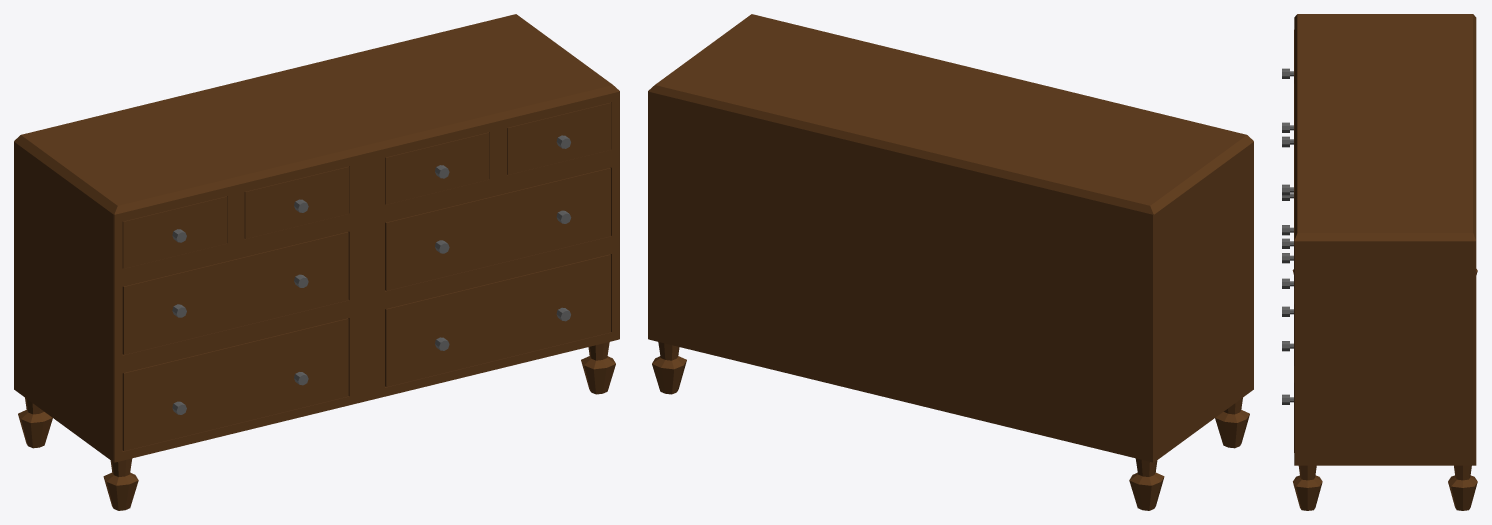
The model's file is WideDresser1.glb.
3 views of the same model, side by side, from view 1: azimuth 30°, elevation 25°; view 2: azimuth 150°, elevation 25°; view 3: azimuth 270°, elevation 25° (orthographic). The views are drawn at different scales.
Parts seen in each view (by area): view 1: WideDresser1, Drawer4_WideDresser1, Drawer8_WideDresser1, Drawer3_WideDresser1, Drawer7_WideDresser1, Drawer1_WideDresser1, Drawer2_WideDresser1, Drawer5_WideDresser1, Drawer6_WideDresser1; view 2: WideDresser1; view 3: WideDresser1, Drawer8_WideDresser1, Drawer7_WideDresser1.
Boxes of the visible parts, x1,y1,x2,y2 form: WideDresser1: (14,14,619,510); Drawer4_WideDresser1: (122,318,348,450); Drawer8_WideDresser1: (385,254,610,386); Drawer3_WideDresser1: (122,232,348,354); Drawer7_WideDresser1: (385,168,610,290); Drawer1_WideDresser1: (122,196,227,268); Drawer2_WideDresser1: (244,166,349,238); Drawer5_WideDresser1: (385,132,489,204); Drawer6_WideDresser1: (507,102,611,174); WideDresser1: (648,14,1253,510); WideDresser1: (1292,14,1477,510); Drawer8_WideDresser1: (1282,341,1294,452); Drawer7_WideDresser1: (1282,253,1294,365).
Bounding box in the file's own units: 1.54 × 0.8952 × 0.5698.
